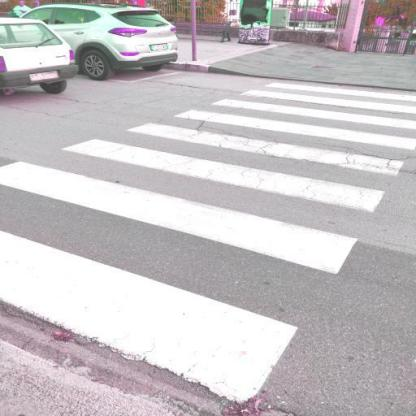crosswalk: (44, 114, 416, 218)
